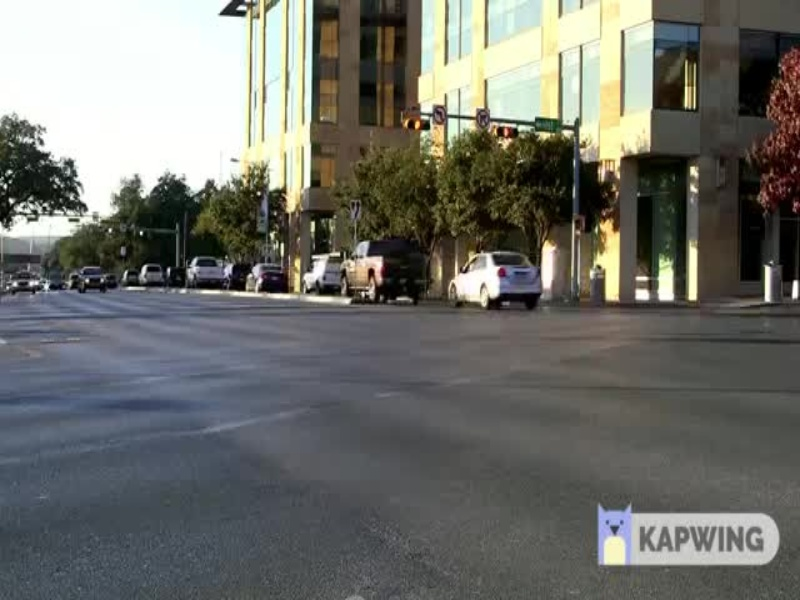car: (446, 250, 540, 319)
truck: (338, 232, 428, 308)
